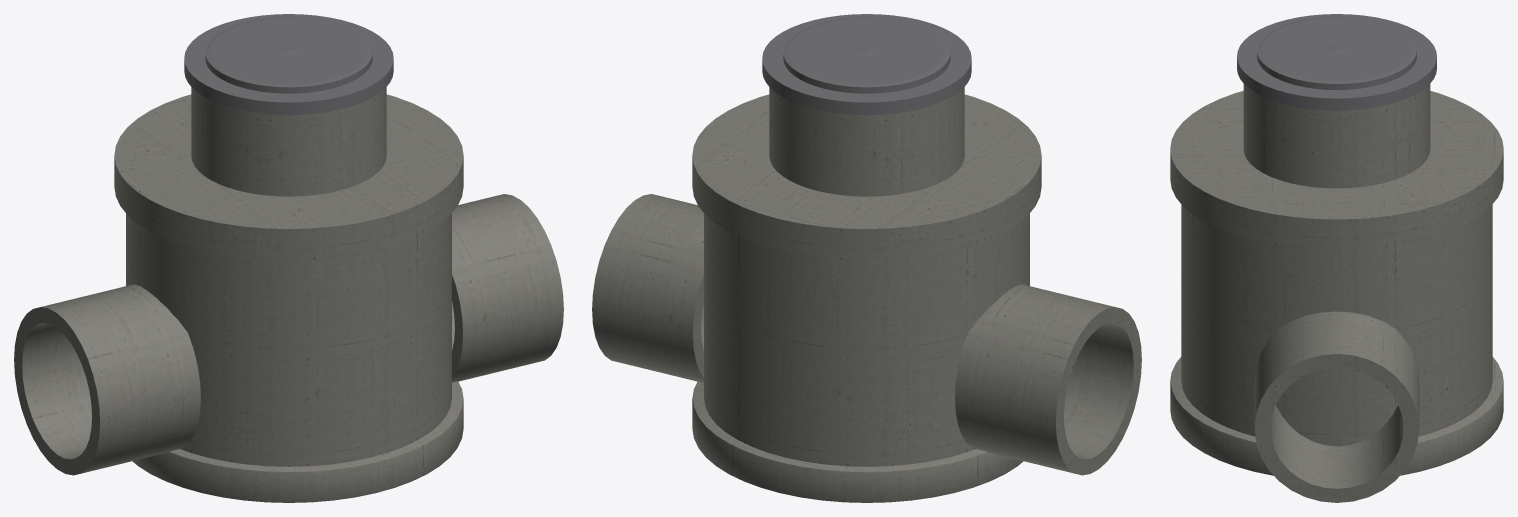
File: HID-DRN-006.glb
The picture shows the model from 3 angles, left to right: view 1: azimuth 30°, elevation 25°; view 2: azimuth 150°, elevation 25°; view 3: azimuth 270°, elevation 25°; orthographic projection. The views are drawn at different scales.
Visible parts, largest first — view 1: HID-DRN-006_laje, HID-DRN-006_anel1, HID-DRN-006_tubo-1, HID-DRN-006_anel0, HID-DRN-006_tubo1, HID-DRN-006_chamine, HID-DRN-006_base, HID-DRN-006_tampa, HID-DRN-006_aro; view 2: HID-DRN-006_laje, HID-DRN-006_anel1, HID-DRN-006_tubo-1, HID-DRN-006_anel0, HID-DRN-006_tubo1, HID-DRN-006_chamine, HID-DRN-006_base, HID-DRN-006_tampa, HID-DRN-006_aro; view 3: HID-DRN-006_laje, HID-DRN-006_anel1, HID-DRN-006_anel0, HID-DRN-006_tubo1, HID-DRN-006_chamine, HID-DRN-006_tampa, HID-DRN-006_aro, HID-DRN-006_base.
Boxes of the visible parts, x1,y1,x2,y2 form: HID-DRN-006_laje: (114,94,463,260); HID-DRN-006_anel1: (126,213,451,361); HID-DRN-006_tubo-1: (14,284,200,475); HID-DRN-006_anel0: (180,293,451,466); HID-DRN-006_tubo1: (452,194,563,382); HID-DRN-006_chamine: (191,87,386,196); HID-DRN-006_base: (132,381,463,502); HID-DRN-006_tampa: (206,17,371,86); HID-DRN-006_aro: (184,14,393,115); HID-DRN-006_laje: (692,94,1041,260); HID-DRN-006_anel1: (704,213,1029,361); HID-DRN-006_tubo-1: (955,284,1141,475); HID-DRN-006_anel0: (704,293,975,466); HID-DRN-006_tubo1: (592,194,703,382); HID-DRN-006_chamine: (769,87,964,196); HID-DRN-006_base: (692,381,1023,502); HID-DRN-006_tampa: (784,17,949,86); HID-DRN-006_aro: (762,14,971,115); HID-DRN-006_laje: (1170,91,1503,249); HID-DRN-006_anel1: (1181,204,1492,338); HID-DRN-006_anel0: (1181,281,1492,446); HID-DRN-006_tubo1: (1254,311,1419,502); HID-DRN-006_chamine: (1243,84,1430,188); HID-DRN-006_tampa: (1258,17,1415,83); HID-DRN-006_aro: (1237,14,1436,110); HID-DRN-006_base: (1170,357,1503,475).
Bounding box in the file's own units: 2.3 × 1.8 × 1.5.
2 materials, 1 textured.
